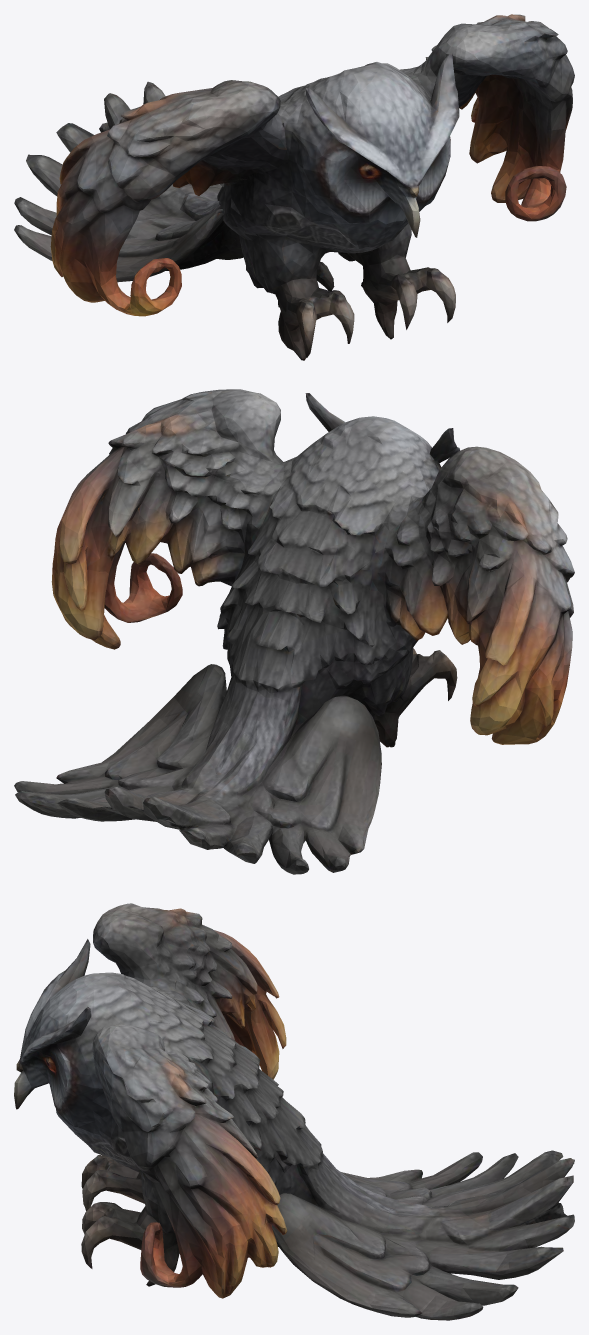
File: ashwingOwl.glb
3 renders of one model, top to bottom at view 1: azimuth 30°, elevation 25°; view 2: azimuth 150°, elevation 25°; view 3: azimuth 270°, elevation 25°, orthographic. The views are drawn at different scales.
Parts seen in each view (by area): view 1: world; view 2: world; view 3: world.
Part boxes in pixels (x1,y1,x2,y2): world: (14,14,574,360); world: (14,389,574,874); world: (14,903,574,1320).
Bounding box in the file's own units: 0.9965 × 0.5719 × 0.9887.
1 material, 1 textured.
